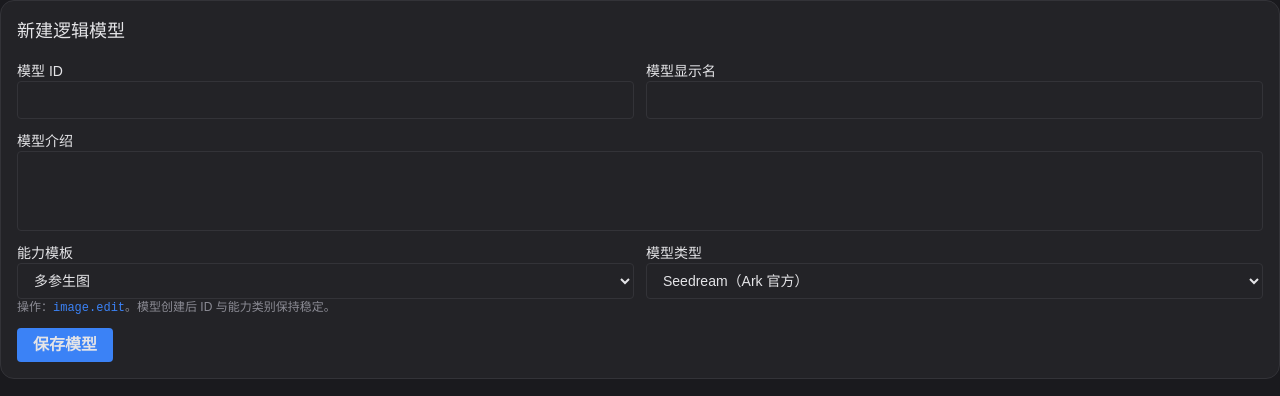
Test case: offers exactly two capability templates and separates the concrete model protocol
Select "Banana（Chiyun）" in the dropdown labelled "模型类型" at (954, 281), box [646, 263, 1263, 299]
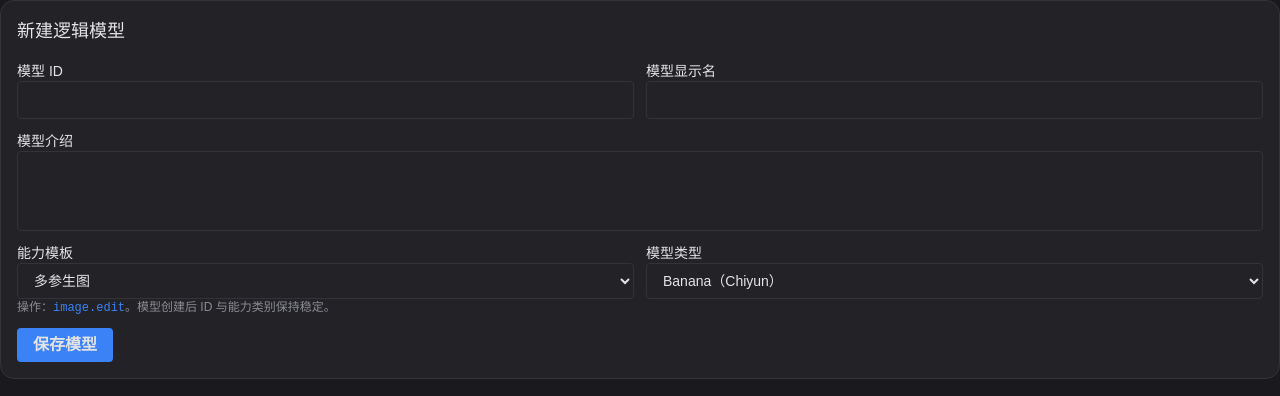
Expected: the text "image.edit" is shown, [53, 301, 125, 315]
Select "多参生视频" in the dropdown labelled "能力模板" at (326, 281), box [17, 263, 634, 299]
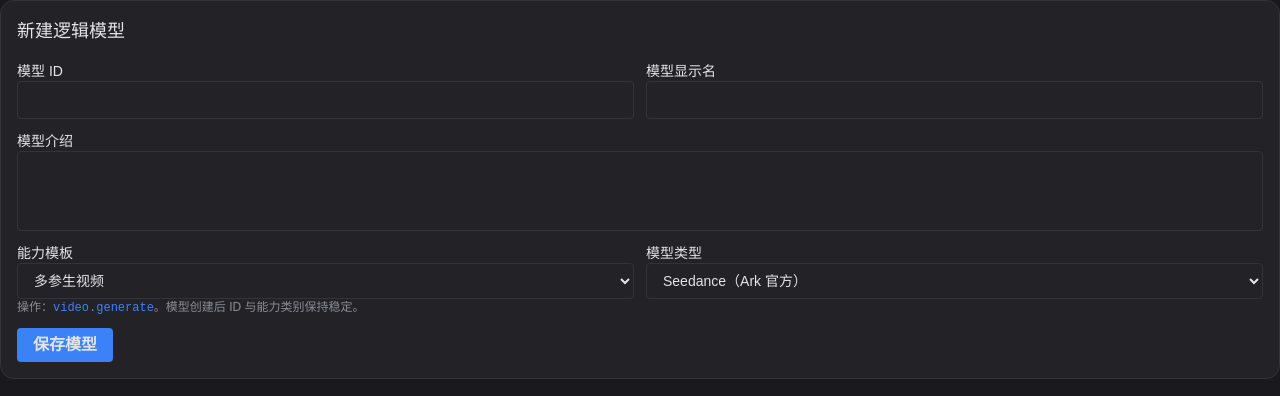
Expected: the text "video.generate" is shown, [53, 301, 154, 315]
